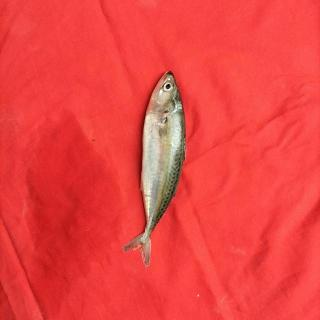Ikan: (118, 61, 199, 269)
